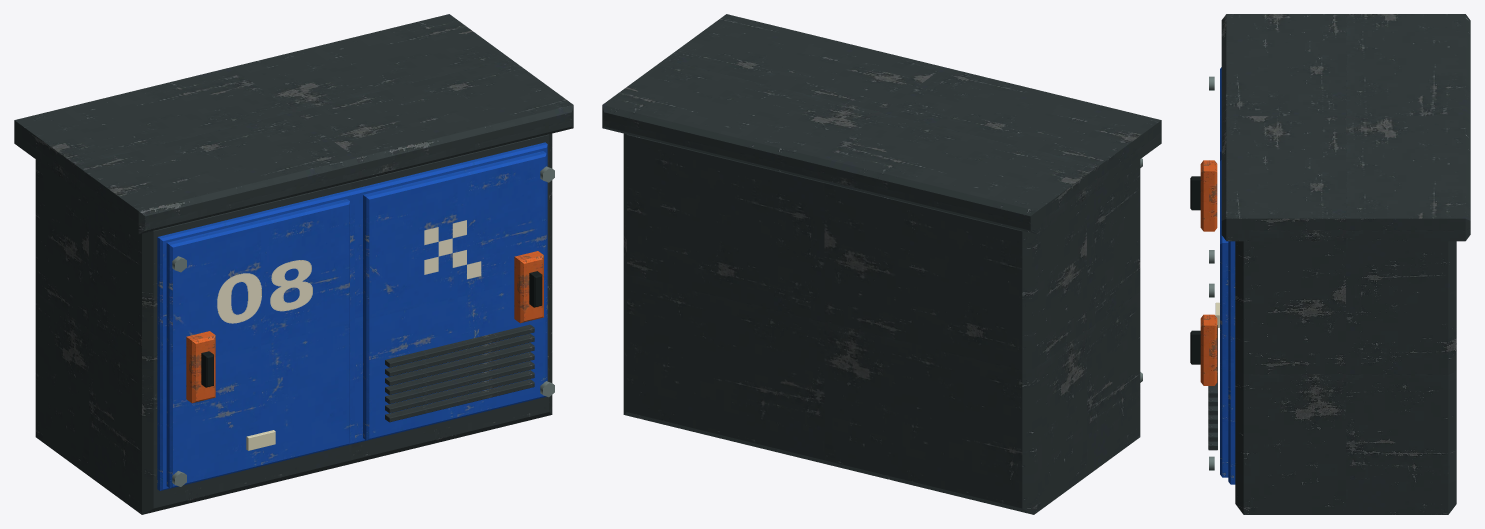
Rendered from factory-a08-proof-service-cabinet-v2.glb.
The picture shows the model from 3 angles, left to right: view 1: azimuth 30°, elevation 25°; view 2: azimuth 150°, elevation 25°; view 3: azimuth 270°, elevation 25°; orthographic projection. The views are drawn at different scales.
Visible parts, largest first — view 1: prop:charcoal, prop:blue, prop:stencil, prop:orange, prop:rubber, prop:hardware; view 2: prop:charcoal; view 3: prop:charcoal, prop:blue, prop:orange, prop:rubber, prop:hardware.
Boxes of the visible parts, bbox=[...] form: prop:charcoal: bbox=[14, 14, 573, 514]; prop:blue: bbox=[157, 142, 547, 490]; prop:stencil: bbox=[217, 220, 481, 323]; prop:orange: bbox=[186, 251, 543, 403]; prop:rubber: bbox=[201, 271, 542, 387]; prop:hardware: bbox=[172, 166, 554, 486]; prop:charcoal: bbox=[602, 14, 1161, 514]; prop:charcoal: bbox=[1208, 14, 1470, 514]; prop:blue: bbox=[1220, 67, 1235, 484]; prop:orange: bbox=[1200, 160, 1217, 385]; prop:rubber: bbox=[1190, 176, 1200, 364]; prop:hardware: bbox=[1209, 76, 1214, 470].
Bounding box in the file's own units: 3.5 × 2.43 × 2.02.
Materials: 7 (4 with a texture image).
